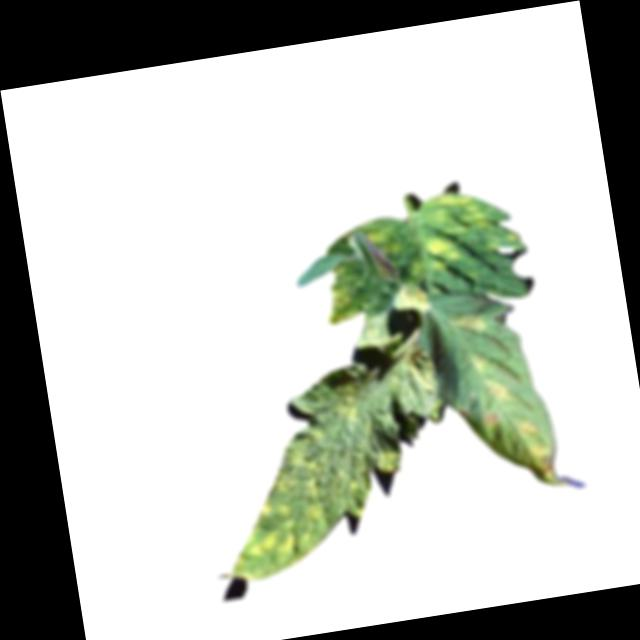Leaf_Mold: (210, 427, 343, 586), (412, 183, 525, 275), (320, 280, 367, 327), (523, 442, 559, 483), (392, 281, 433, 315), (481, 372, 518, 405), (453, 307, 490, 340), (331, 393, 365, 427), (463, 349, 490, 376), (518, 418, 540, 442)
